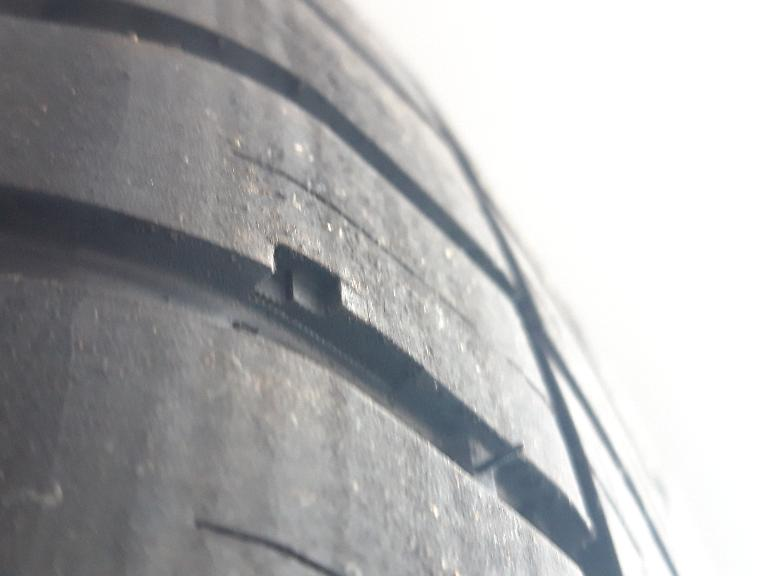temoin:50: (242, 236, 373, 360)
